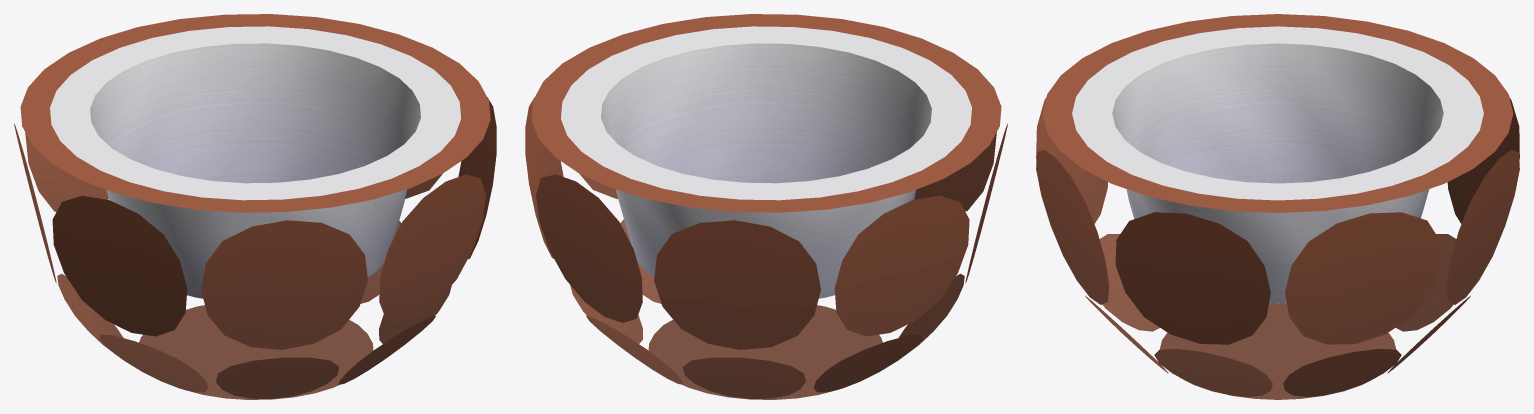
File: coconut-half.glb
3 renders of one model, left to right at view 1: azimuth 30°, elevation 25°; view 2: azimuth 150°, elevation 25°; view 3: azimuth 270°, elevation 25°, orthographic.
Parts seen in each view (by area): view 1: coconut-half; view 2: coconut-half; view 3: coconut-half.
Boxes of the visible parts, <box> form: coconut-half: <box>14,14,496,399</box>; coconut-half: <box>525,14,1007,399</box>; coconut-half: <box>1036,14,1519,399</box>.
Size of the model in its own units: 0.2303 by 0.1242 by 0.2303.
Materials: 1 (1 with a texture image).
